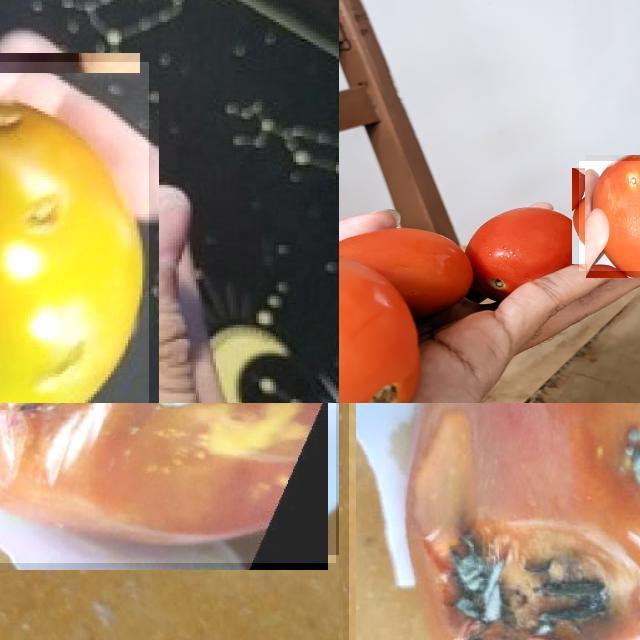Fresh Tomato: (339, 244, 423, 403), (464, 205, 592, 304), (339, 227, 473, 313), (579, 160, 640, 271)
Rotten Tomato: (349, 403, 640, 640), (0, 403, 336, 562), (0, 62, 149, 403)
